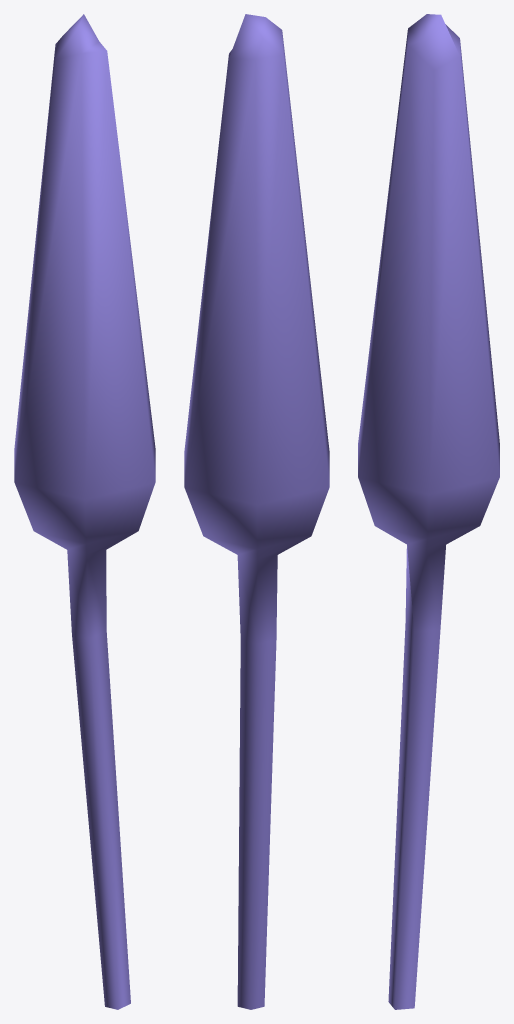
The model's file is roselle2.fbx.
3 renders of one model, left to right at view 1: azimuth 30°, elevation 25°; view 2: azimuth 150°, elevation 25°; view 3: azimuth 270°, elevation 25°, orthographic. The views are drawn at different scales.
Parts seen in each view (by area): view 1: roselle2; view 2: roselle2; view 3: roselle2.
Part boxes in pixels (<box>): roselle2: <box>14,14,155,1009</box>; roselle2: <box>184,14,329,1009</box>; roselle2: <box>358,14,499,1009</box>.
Bounding box in the file's own units: 14.18 × 94.01 × 12.28.
